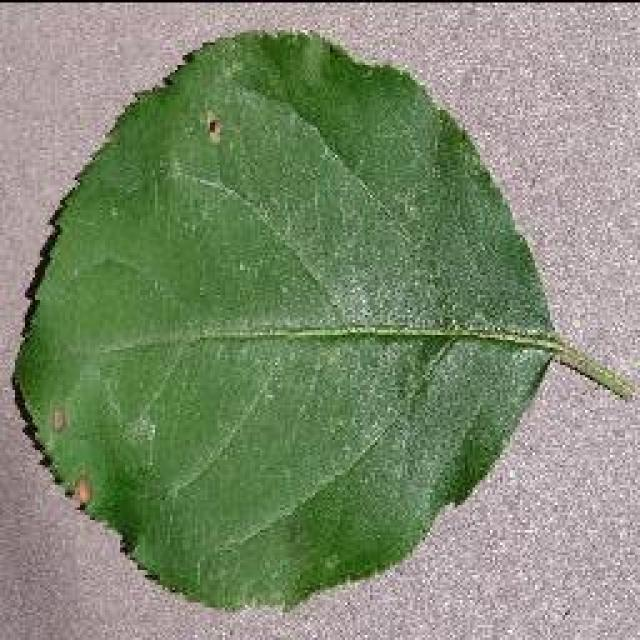apple healthy: (7, 25, 635, 613)
